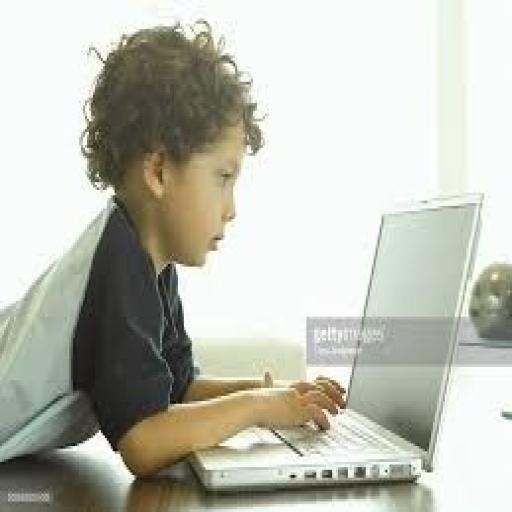using_laptop: (184, 188, 484, 494)
